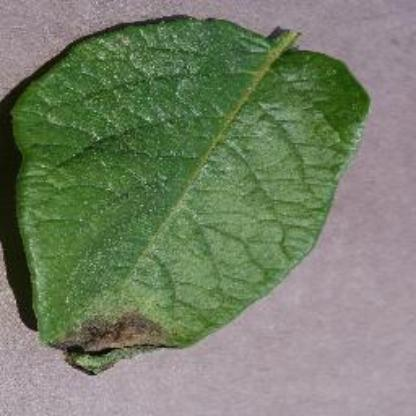Late-Blight: (0, 13, 382, 389)
